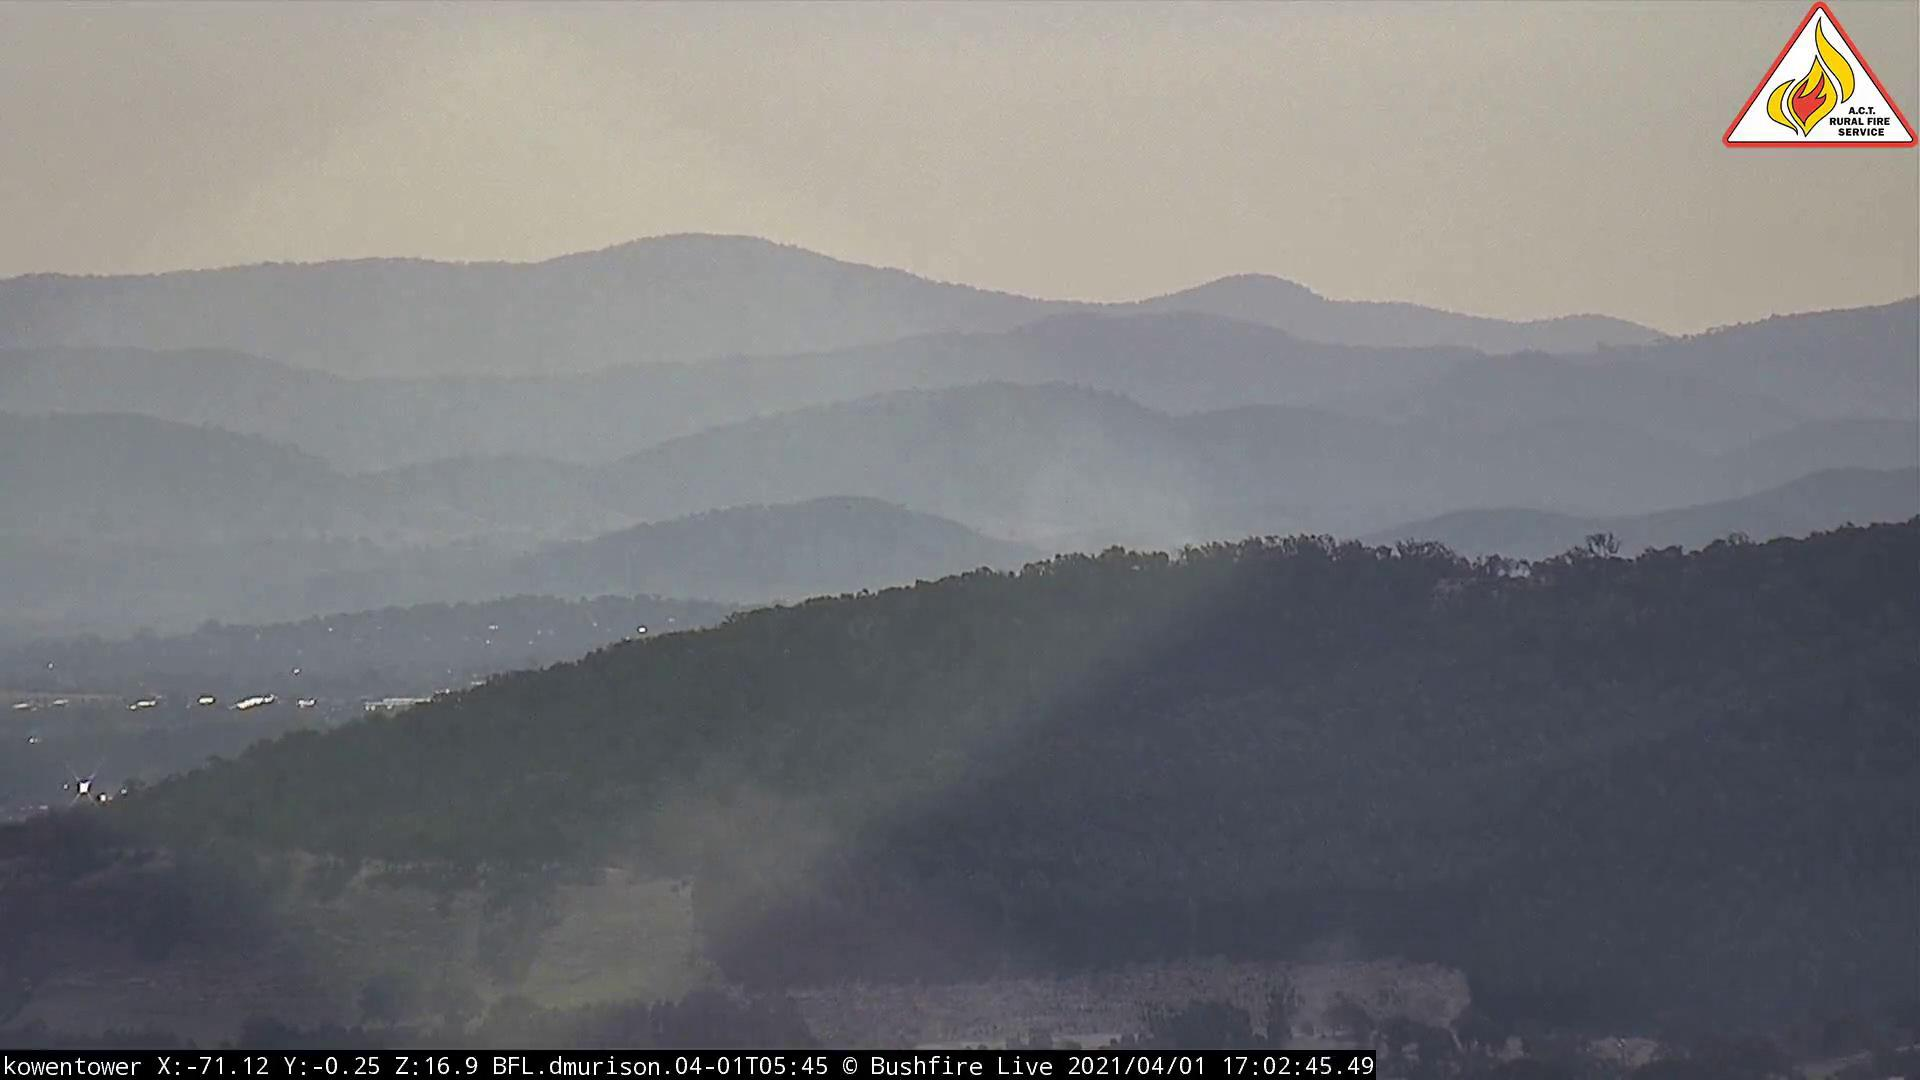Smoke: (993, 396, 1232, 566)
